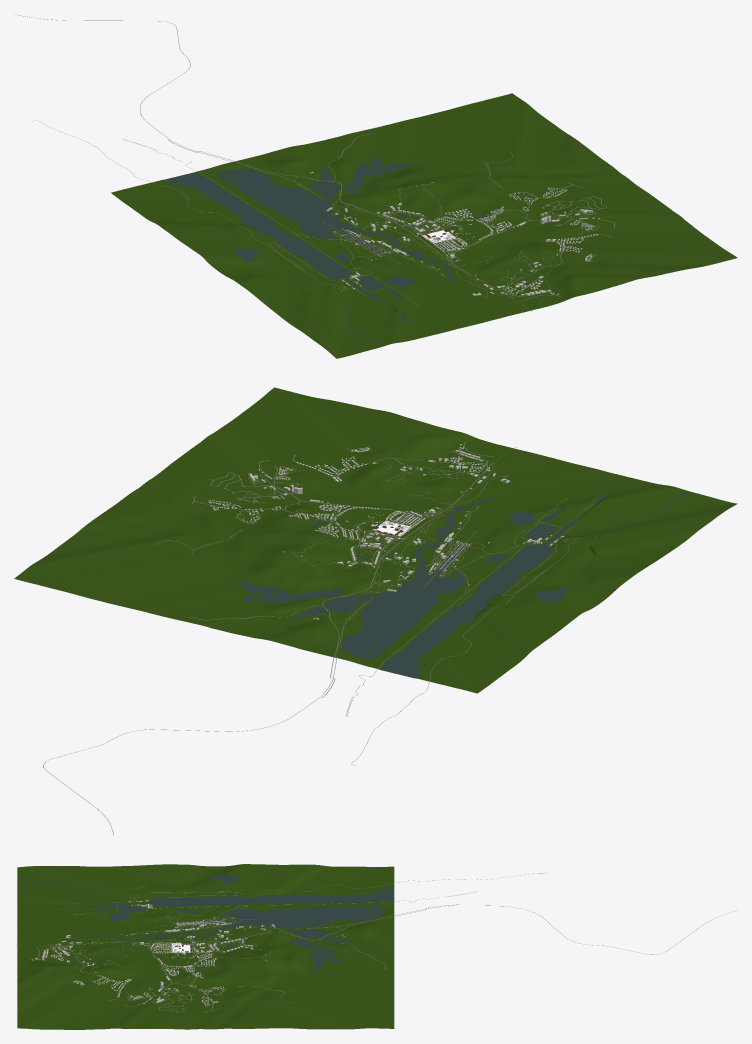
The model's file is contexto.glb.
3 views of the same model, one above another, from view 1: azimuth 30°, elevation 25°; view 2: azimuth 150°, elevation 25°; view 3: azimuth 270°, elevation 25° (orthographic). The views are drawn at different scales.
Parts seen in each view (by area): view 1: entorno: terreno (Copernicus DEM GLO-30), entorno: Ciudad del Saber, avenida y canal, entorno: terreno cercano, entorno cercano (a menos de 400 m); view 2: entorno: terreno (Copernicus DEM GLO-30), entorno: Ciudad del Saber, avenida y canal, entorno: terreno cercano, entorno cercano (a menos de 400 m); view 3: entorno: terreno (Copernicus DEM GLO-30), entorno: Ciudad del Saber, avenida y canal, entorno: terreno cercano, entorno cercano (a menos de 400 m).
Boxes of the visible parts, left/top/right/bottom form: entorno: terreno (Copernicus DEM GLO-30): left=111, top=93, right=737, bottom=358; entorno: Ciudad del Saber, avenida y canal: left=16, top=14, right=614, bottom=346; entorno: terreno cercano: left=399, top=219, right=480, bottom=254; entorno cercano (a menos de 400 m): left=403, top=218, right=473, bottom=251; entorno: terreno (Copernicus DEM GLO-30): left=14, top=387, right=737, bottom=693; entorno: Ciudad del Saber, avenida y canal: left=43, top=441, right=684, bottom=835; entorno: terreno cercano: left=344, top=509, right=438, bottom=549; entorno cercano (a menos de 400 m): left=345, top=512, right=430, bottom=549; entorno: terreno (Copernicus DEM GLO-30): left=17, top=864, right=394, bottom=1029; entorno: Ciudad del Saber, avenida y canal: left=16, top=872, right=737, bottom=1012; entorno: terreno cercano: left=156, top=938, right=206, bottom=958; entorno cercano (a menos de 400 m): left=157, top=938, right=208, bottom=958.
Bounding box in the file's own units: 6120 × 122 × 11452.
